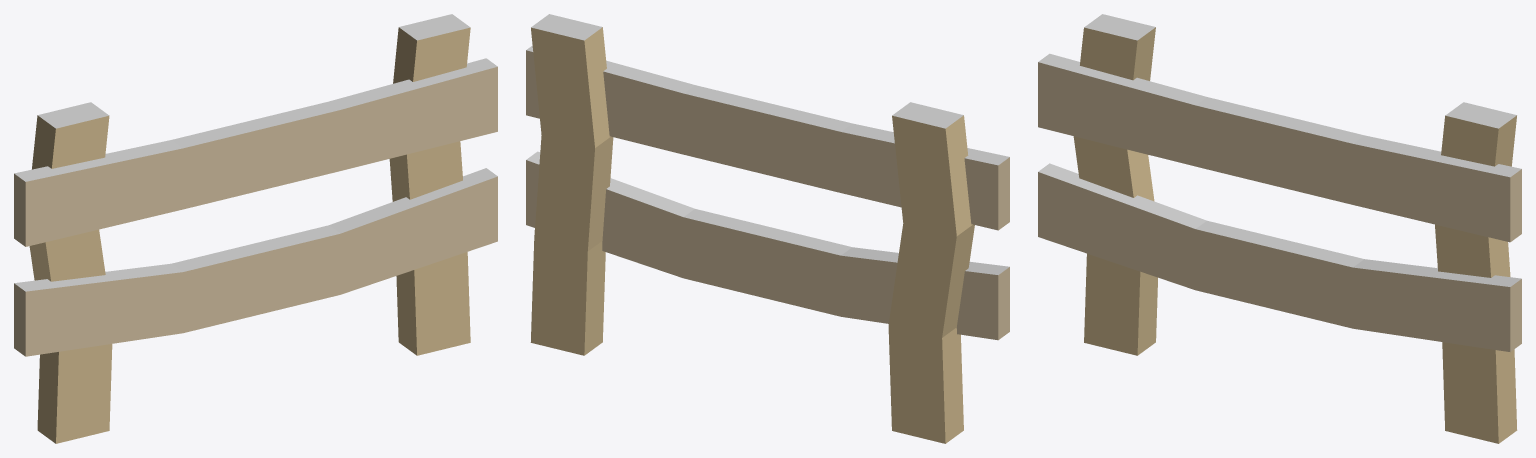
The model's file is fence.fbx.
The picture shows the model from 3 angles, left to right: view 1: azimuth 30°, elevation 25°; view 2: azimuth 150°, elevation 25°; view 3: azimuth 330°, elevation 25°; orthographic projection.
Parts seen in each view (by area): view 1: Cube; view 2: Cube; view 3: Cube.
Boxes of the visible parts, x1,y1,x2,y2 form: Cube: [14, 14, 497, 443]; Cube: [526, 14, 1009, 443]; Cube: [1038, 14, 1521, 443].
Size of the model in its own units: 240 by 153 by 23.12.
